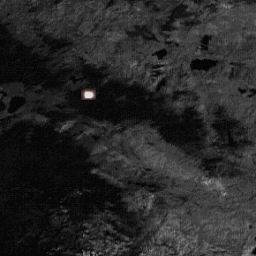Target: (82, 89, 94, 101)
